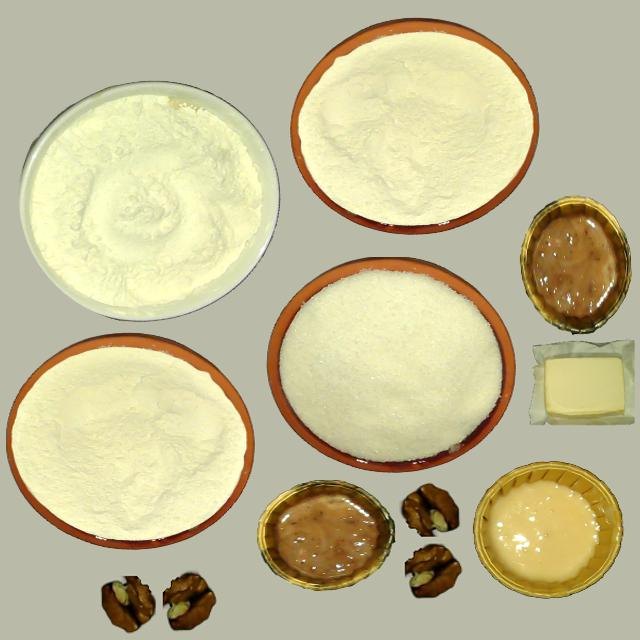Flour: (19, 82, 276, 321), (5, 333, 252, 551), (289, 19, 537, 236)
Sugar: (263, 258, 509, 473)
